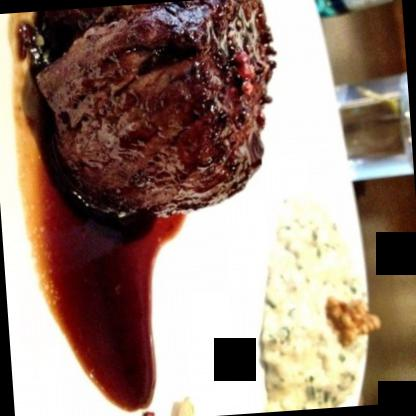beef: (18, 0, 286, 224)
